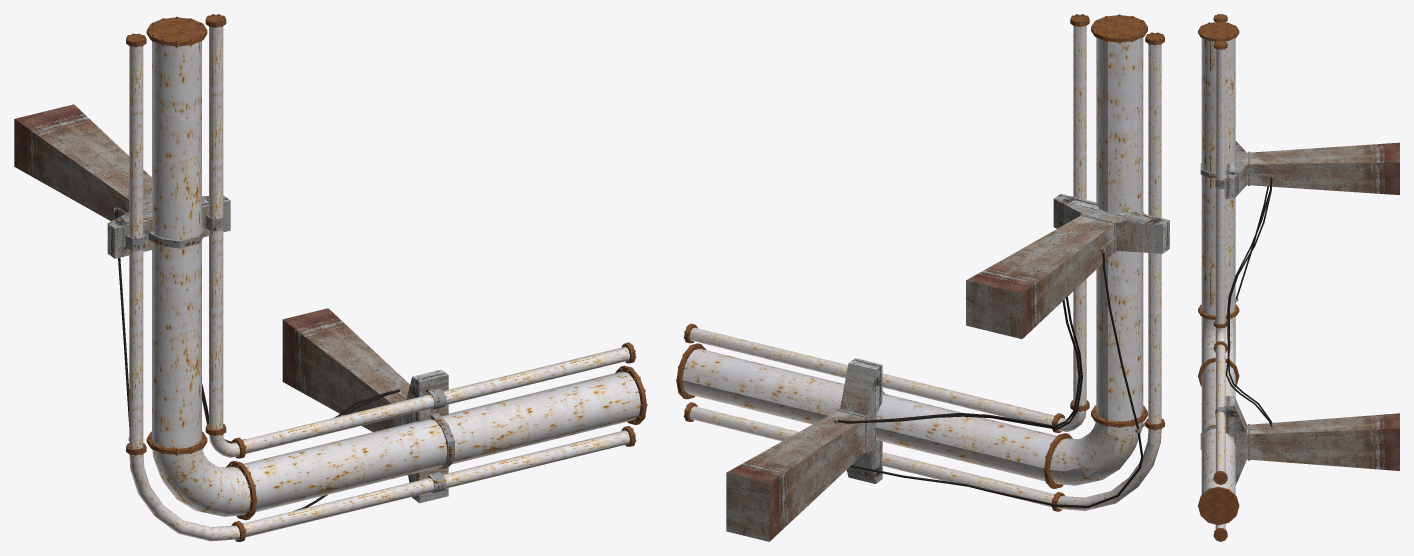
Rendered from rohrsystem_E.obj.
The picture shows the model from 3 angles, left to right: view 1: azimuth 30°, elevation 25°; view 2: azimuth 150°, elevation 25°; view 3: azimuth 270°, elevation 25°; orthographic projection. The views are drawn at different scales.
Parts seen in each view (by area): view 1: Object031; view 2: Object031; view 3: Object031.
Boxes of the visible parts, left/top/right/bottom form: Object031: left=14, top=14, right=647, bottom=541; Object031: left=676, top=14, right=1169, bottom=541; Object031: left=1198, top=14, right=1399, bottom=541.
Size of the model in its own units: 14.37 by 14.37 by 7.17.
Materials: 5 (5 with a texture image).
